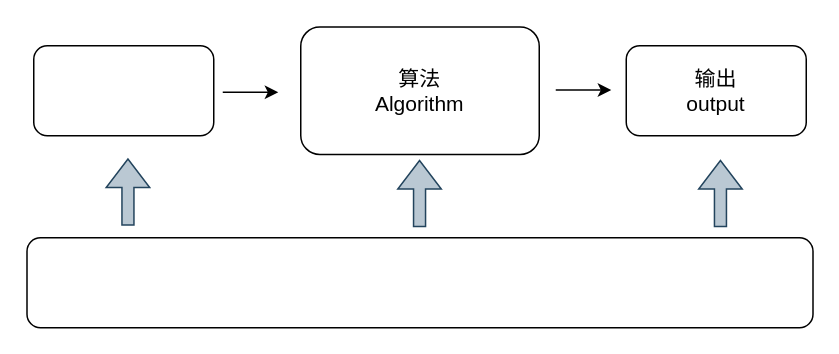
The diagram is 839 pixels wide and 354 high, and some of its shapes have lost their labels. The shapes that lost their labels are listed below. From the top down, each one's centre as x and y in pixels, then its label:
At point 123,90: "输入 input".
At point 419,282: "数据结构 Data Structure".
